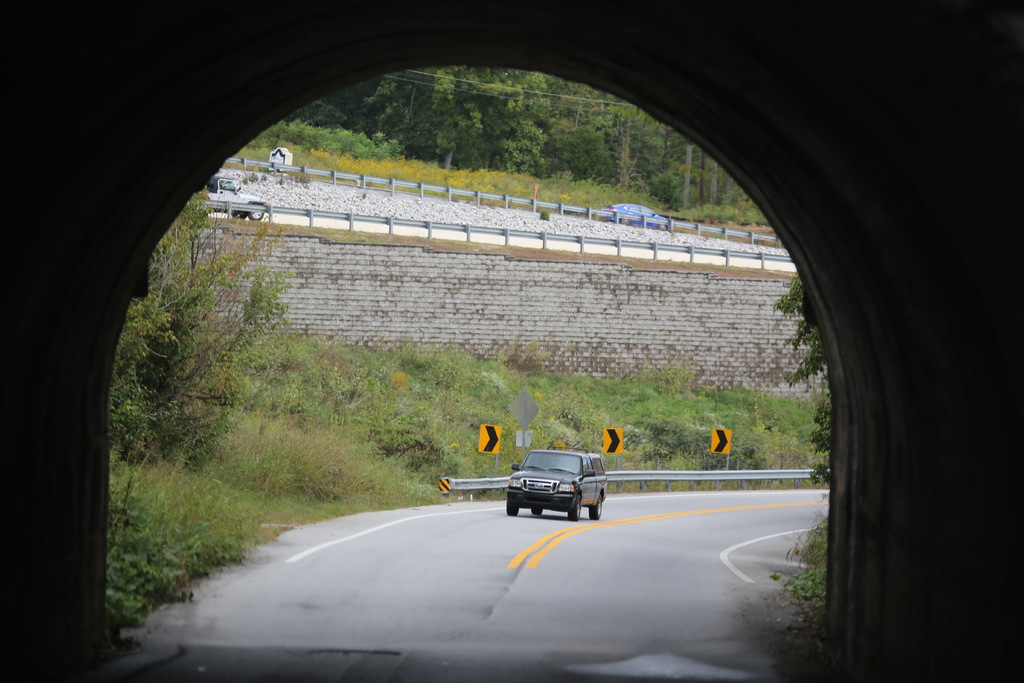Car: (508, 449, 609, 520), (202, 178, 268, 220), (609, 206, 670, 230)
